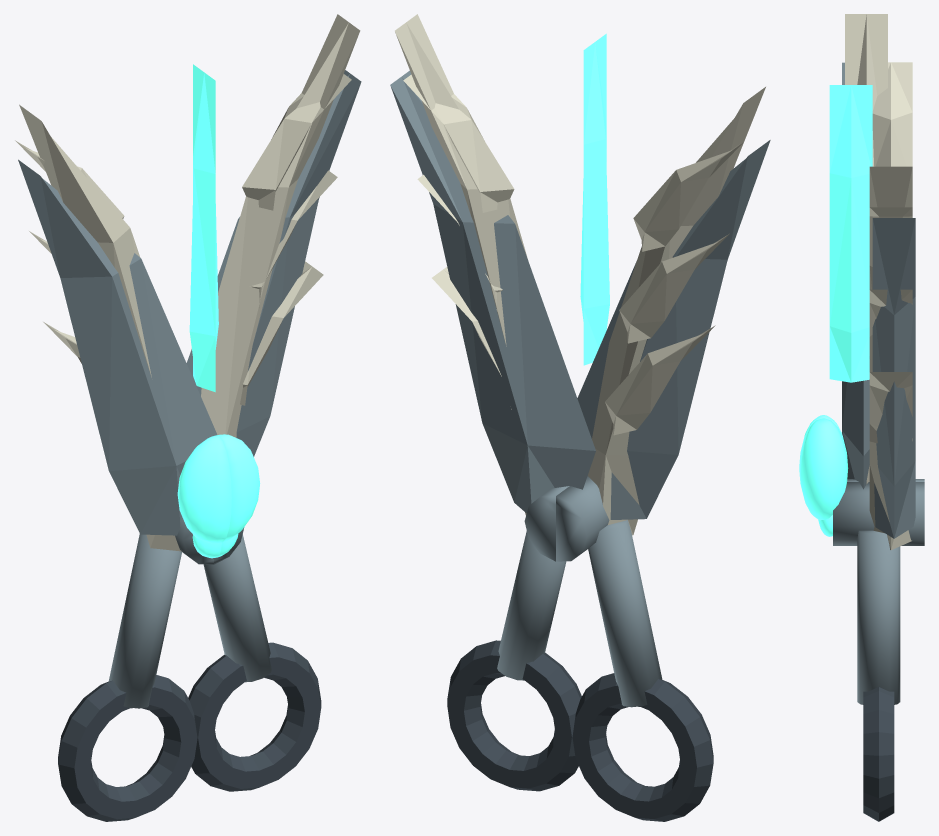
The model's file is YK_04_Mes_Weapon_E03.glb.
3 renders of one model, left to right at view 1: azimuth 30°, elevation 25°; view 2: azimuth 150°, elevation 25°; view 3: azimuth 270°, elevation 25°, orthographic. The views are drawn at different scales.
Visible parts, largest first — view 1: SM_YK_04_Mes_Weapon_P00_R, SM_YK_04_Mes_Weapon_P01_L, SM_YK_04_Mes_Weapon_P00_L, SM_YK_04_Mes_Weapon_P03_L, SM_YK_04_Mes_Weapon_P01_R, SM_YK_04_Mes_Weapon_P02_R, SM_YK_04_Mes_Weapon_P03_R, SM_YK_04_Mes_Weapon_P02_L; view 2: SM_YK_04_Mes_Weapon_P00_L, SM_YK_04_Mes_Weapon_P01_R, SM_YK_04_Mes_Weapon_P00_R, SM_YK_04_Mes_Weapon_P01_L, SM_YK_04_Mes_Weapon_P02_L, SM_YK_04_Mes_Weapon_P03_L, SM_YK_04_Mes_Weapon_P02_R; view 3: SM_YK_04_Mes_Weapon_P00_R, SM_YK_04_Mes_Weapon_P03_R, SM_YK_04_Mes_Weapon_P01_R, SM_YK_04_Mes_Weapon_P02_L, SM_YK_04_Mes_Weapon_P00_L, SM_YK_04_Mes_Weapon_P02_R, SM_YK_04_Mes_Weapon_P03_L, SM_YK_04_Mes_Weapon_P01_L.
Part boxes in pixels (box(x1,y1,x2,y2)): SM_YK_04_Mes_Weapon_P00_R: box(188, 14, 360, 791); SM_YK_04_Mes_Weapon_P01_L: box(18, 159, 201, 535); SM_YK_04_Mes_Weapon_P00_L: box(19, 104, 221, 821); SM_YK_04_Mes_Weapon_P03_L: box(177, 64, 231, 543); SM_YK_04_Mes_Weapon_P01_R: box(186, 70, 361, 456); SM_YK_04_Mes_Weapon_P02_R: box(240, 74, 351, 405); SM_YK_04_Mes_Weapon_P03_R: box(215, 204, 260, 541); SM_YK_04_Mes_Weapon_P02_L: box(15, 140, 124, 363); SM_YK_04_Mes_Weapon_P00_L: box(556, 87, 765, 821); SM_YK_04_Mes_Weapon_P01_R: box(390, 70, 588, 512); SM_YK_04_Mes_Weapon_P00_R: box(395, 14, 581, 791); SM_YK_04_Mes_Weapon_P01_L: box(567, 140, 770, 519); SM_YK_04_Mes_Weapon_P02_L: box(605, 142, 743, 435); SM_YK_04_Mes_Weapon_P03_L: box(583, 33, 609, 365); SM_YK_04_Mes_Weapon_P02_R: box(403, 74, 514, 409); SM_YK_04_Mes_Weapon_P00_R: box(818, 166, 924, 821); SM_YK_04_Mes_Weapon_P03_R: box(799, 85, 870, 520); SM_YK_04_Mes_Weapon_P01_R: box(854, 218, 915, 538); SM_YK_04_Mes_Weapon_P02_L: box(872, 62, 912, 166); SM_YK_04_Mes_Weapon_P00_L: box(845, 14, 924, 481); SM_YK_04_Mes_Weapon_P02_R: box(869, 207, 912, 443); SM_YK_04_Mes_Weapon_P03_L: box(804, 85, 872, 437); SM_YK_04_Mes_Weapon_P01_L: box(842, 62, 869, 481).
Size of the model in its own units: 0.6 by 1.26 by 0.205.
